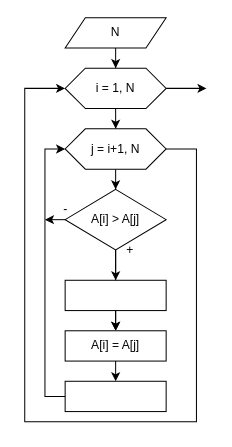
The diagram is 232 pixels wide and 447 high, and some of its shapes have lost their labels. Each missing label, with the centre of its shape:
"A[j] = temp" belongs at point 115,396.
"temp = A[i]" belongs at point 115,295.
